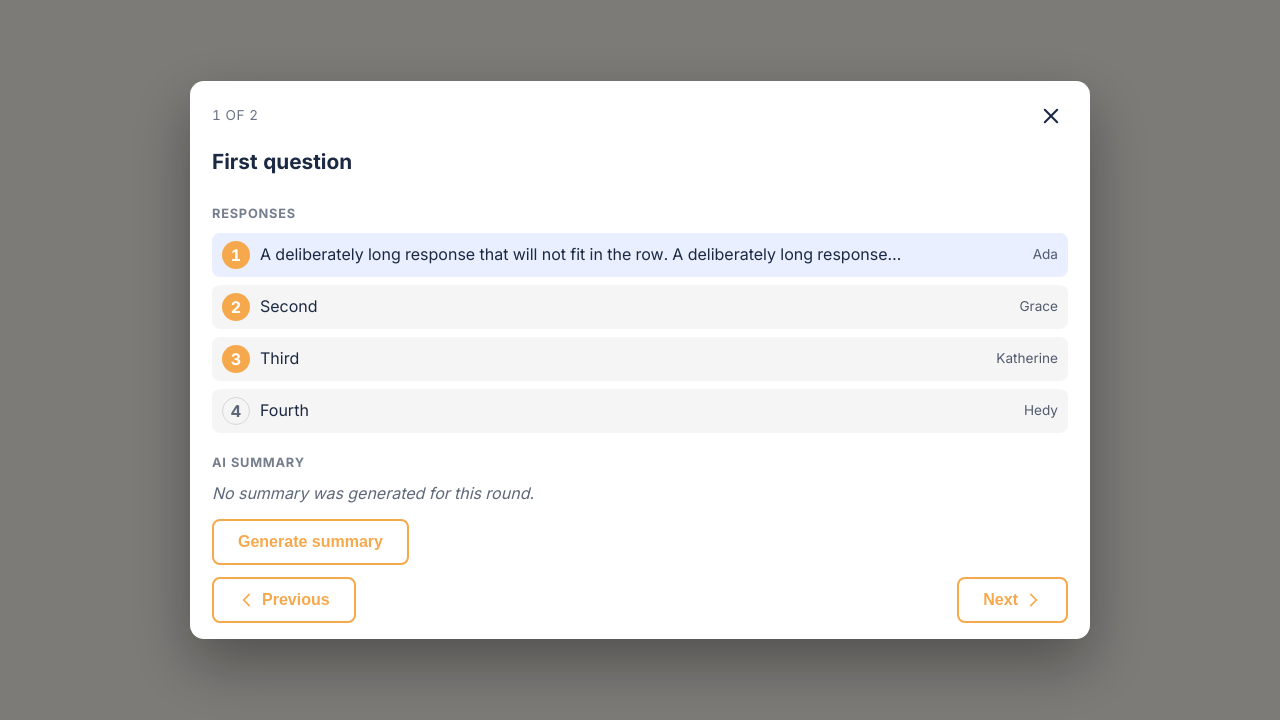
Test case: opening one response in full › it opens the response whose number was pressed
Click the button "3" at (236, 359), box x1=222 y1=345 x2=250 y2=373
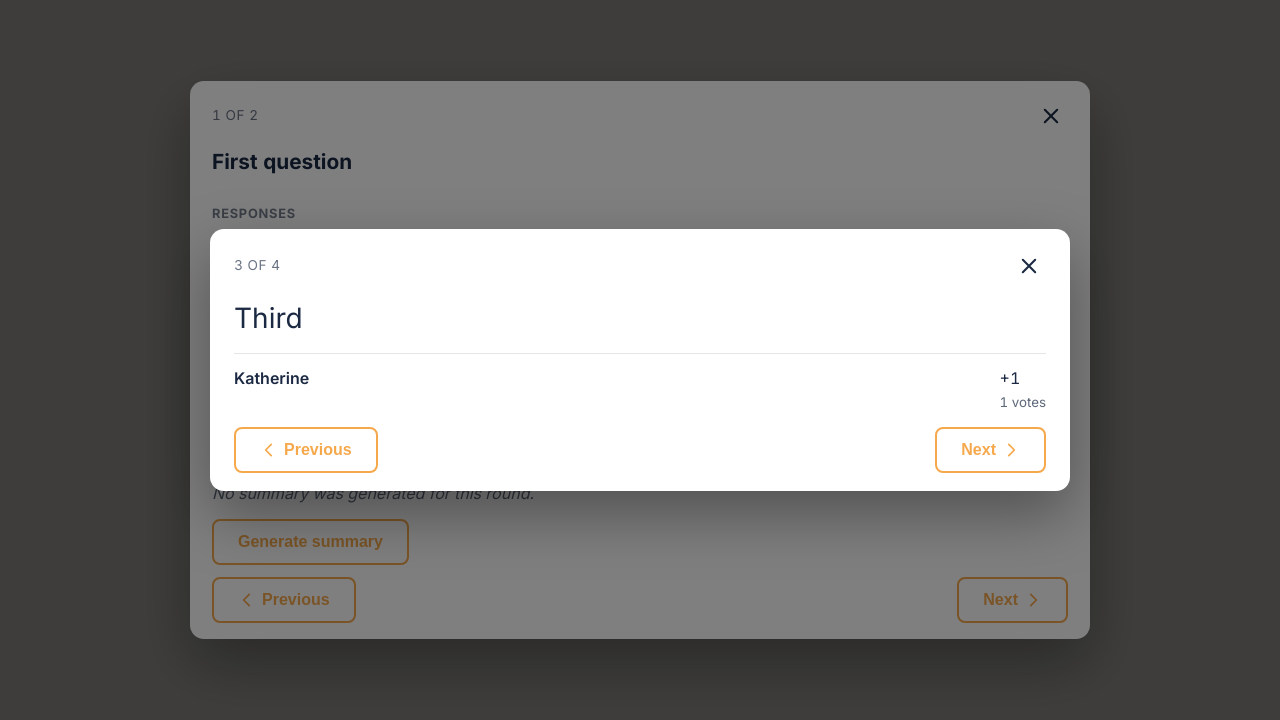
Check: the dialog with class "answer-spotlight" shows "Third", box x1=234 y1=301 x2=303 y2=335
Check: the dialog with class "answer-spotlight" shows "Katherine", box x1=234 y1=368 x2=309 y2=388
Check: the text "3 of 4" is shown, box x1=234 y1=255 x2=281 y2=277
